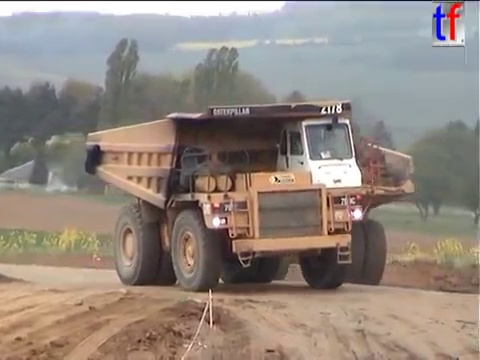truck: (81, 98, 383, 294), (172, 112, 417, 289)
